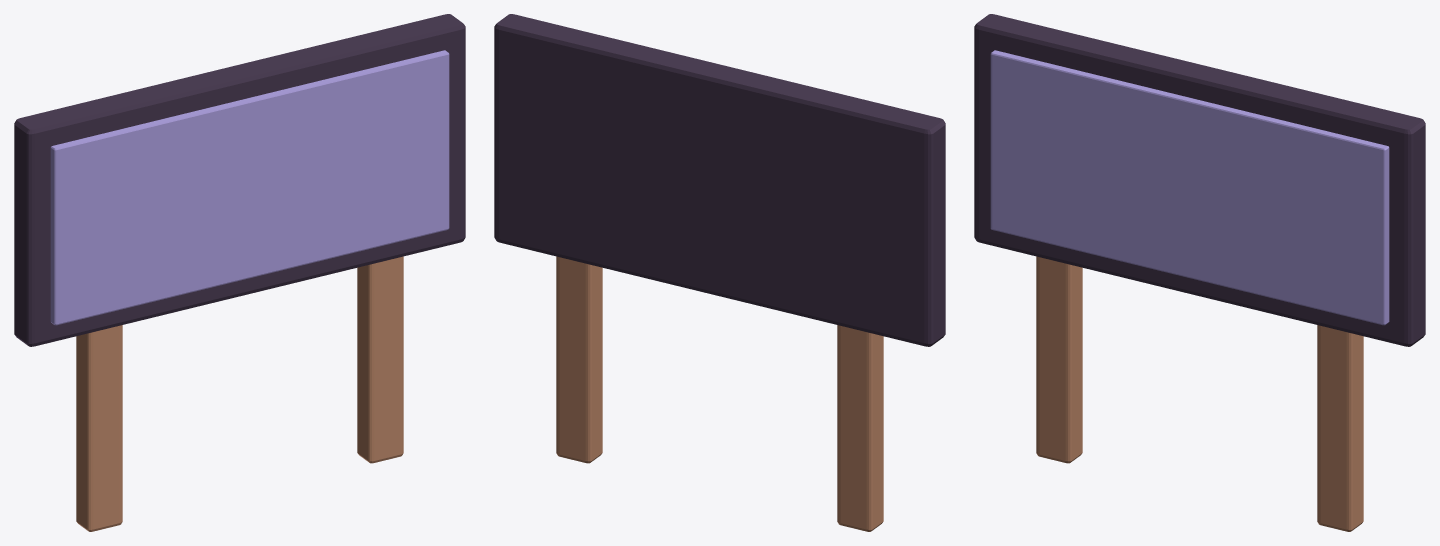
Rendered from score_board_frame.glb.
3 renders of one model, left to right at view 1: azimuth 30°, elevation 25°; view 2: azimuth 150°, elevation 25°; view 3: azimuth 330°, elevation 25°, orthographic.
Visible parts, largest first — view 1: panel, frame, model; view 2: frame, model; view 3: panel, frame, model.
Boxes of the visible parts, x1=… form: panel: x1=50, y1=50, x2=449, y2=325; frame: x1=14, y1=14, x2=465, y2=346; model: x1=76, y1=256, x2=403, y2=531; frame: x1=494, y1=14, x2=945, y2=346; model: x1=556, y1=256, x2=883, y2=531; panel: x1=990, y1=50, x2=1389, y2=325; frame: x1=974, y1=14, x2=1425, y2=346; model: x1=1036, y1=256, x2=1363, y2=531.
Bounding box in the file's own units: 2.2 × 2 × 0.18.
